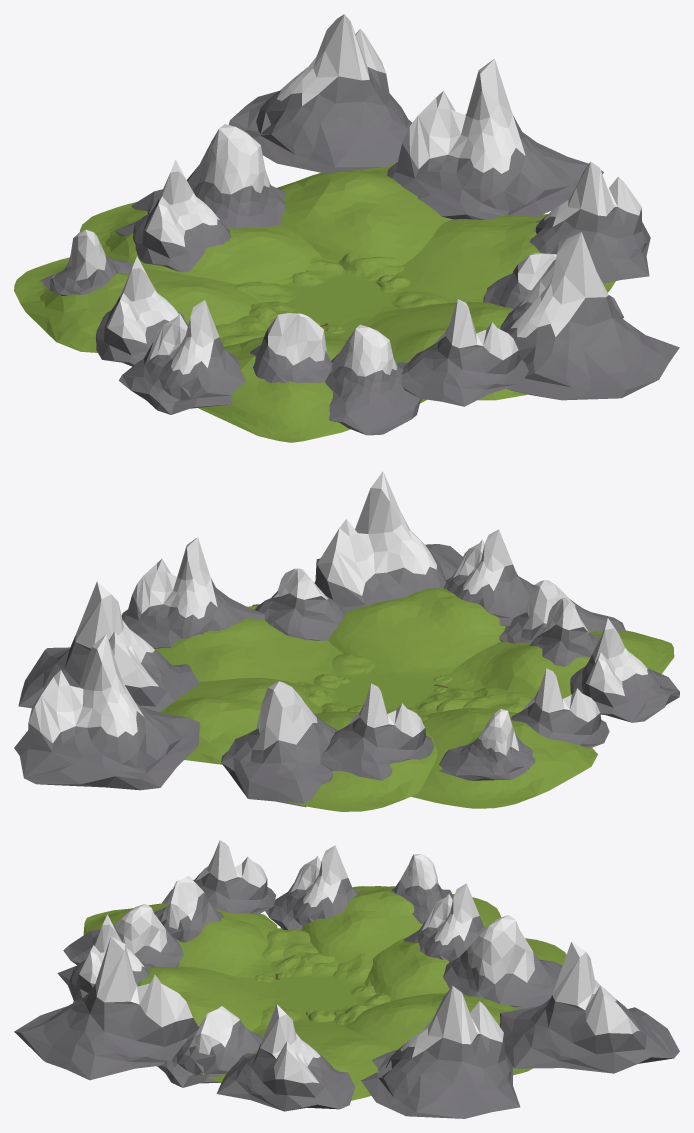
File: Map.FBX
The picture shows the model from 3 angles, top to bottom: view 1: azimuth 30°, elevation 25°; view 2: azimuth 150°, elevation 25°; view 3: azimuth 270°, elevation 25°; orthographic projection. The views are drawn at different scales.
Visible parts, largest first — view 1: Mesh_Landscape_Mountain_3, Mesh_Landscape_Mountain_11, Mesh_Landscape_Mountain_10, Mesh_Landscape_Hill_7, Mesh_Landscape_Hill_6, Mesh_Landscape_Mountain_7, Mesh_Landscape_Hill_15, Mesh_Landscape_Mountain_5, Mesh_Landscape_Mountain_9, Mesh_Landscape_Hill_05_1151, Mesh_Landscape_Hill_17, Mesh_Landscape_Mountain_03_1160 (+12 smaller); view 2: Mesh_Landscape_Mountain_11, Mesh_Landscape_Hill_16, Mesh_Landscape_Mountain_10, Mesh_Landscape_Mountain_03_1160, Mesh_Landscape_Hill_6, Mesh_Landscape_Mountain_3, Mesh_Landscape_Hill_15, Mesh_Landscape_Mountain_5, Mesh_Landscape_Hill_17, Mesh_Landscape_Mountain_02_1157, Mesh_Landscape_Mountain_7, Mesh_Landscape_Hill_7 (+13 smaller); view 3: Mesh_Landscape_Mountain_10, Mesh_Landscape_Mountain_3, Mesh_Landscape_Mountain_11, Mesh_Landscape_Mountain_5, Mesh_Landscape_Mountain_03_1160, Mesh_Landscape_Hill_6, Mesh_Landscape_Hill_17, Mesh_Landscape_Hill_16, Mesh_Landscape_Mountain_01_976, Mesh_Landscape_Mountain_6, Mesh_Landscape_Hill_05_1151, Mesh_Landscape_Hill_7 (+13 smaller).
Boxes of the visible parts, x1,y1,x2,y2 form: Mesh_Landscape_Mountain_3: (387,58,603,220); Mesh_Landscape_Mountain_11: (229,14,412,173); Mesh_Landscape_Mountain_10: (500,232,679,400); Mesh_Landscape_Hill_7: (277,161,453,264); Mesh_Landscape_Hill_6: (14,257,259,352); Mesh_Landscape_Mountain_7: (119,300,245,414); Mesh_Landscape_Hill_15: (396,214,615,302); Mesh_Landscape_Mountain_5: (529,161,650,283); Mesh_Landscape_Mountain_9: (396,299,528,406); Mesh_Landscape_Hill_05_1151: (80,202,322,284); Mesh_Landscape_Hill_17: (198,329,426,442); Mesh_Landscape_Mountain_03_1160: (131,124,285,228); Mesh_Landscape_Mountain_11: (14,634,199,790); Mesh_Landscape_Hill_16: (328,588,505,684); Mesh_Landscape_Mountain_10: (314,471,462,612); Mesh_Landscape_Mountain_03_1160: (221,681,337,807); Mesh_Landscape_Hill_6: (411,708,597,808); Mesh_Landscape_Mountain_3: (18,581,200,712); Mesh_Landscape_Hill_15: (155,605,343,684); Mesh_Landscape_Mountain_5: (121,537,265,648); Mesh_Landscape_Hill_17: (447,630,674,699); Mesh_Landscape_Mountain_02_1157: (320,683,434,780); Mesh_Landscape_Mountain_7: (570,618,679,722); Mesh_Landscape_Hill_7: (160,678,322,764); Mesh_Landscape_Mountain_10: (14,937,198,1080); Mesh_Landscape_Mountain_3: (361,986,520,1118); Mesh_Landscape_Mountain_11: (500,942,679,1073); Mesh_Landscape_Mountain_5: (216,1004,354,1111); Mesh_Landscape_Mountain_03_1160: (443,915,562,1009); Mesh_Landscape_Hill_6: (301,886,501,963); Mesh_Landscape_Hill_17: (83,903,277,978); Mesh_Landscape_Hill_16: (73,966,287,1031); Mesh_Landscape_Mountain_01_976: (157,1006,262,1087); Mesh_Landscape_Mountain_6: (265,845,359,930); Mesh_Landscape_Hill_05_1151: (364,937,566,1001); Mesh_Landscape_Hill_7: (345,993,532,1075).
Bounding box in the file's own units: 81939 × 20040 × 96500.
